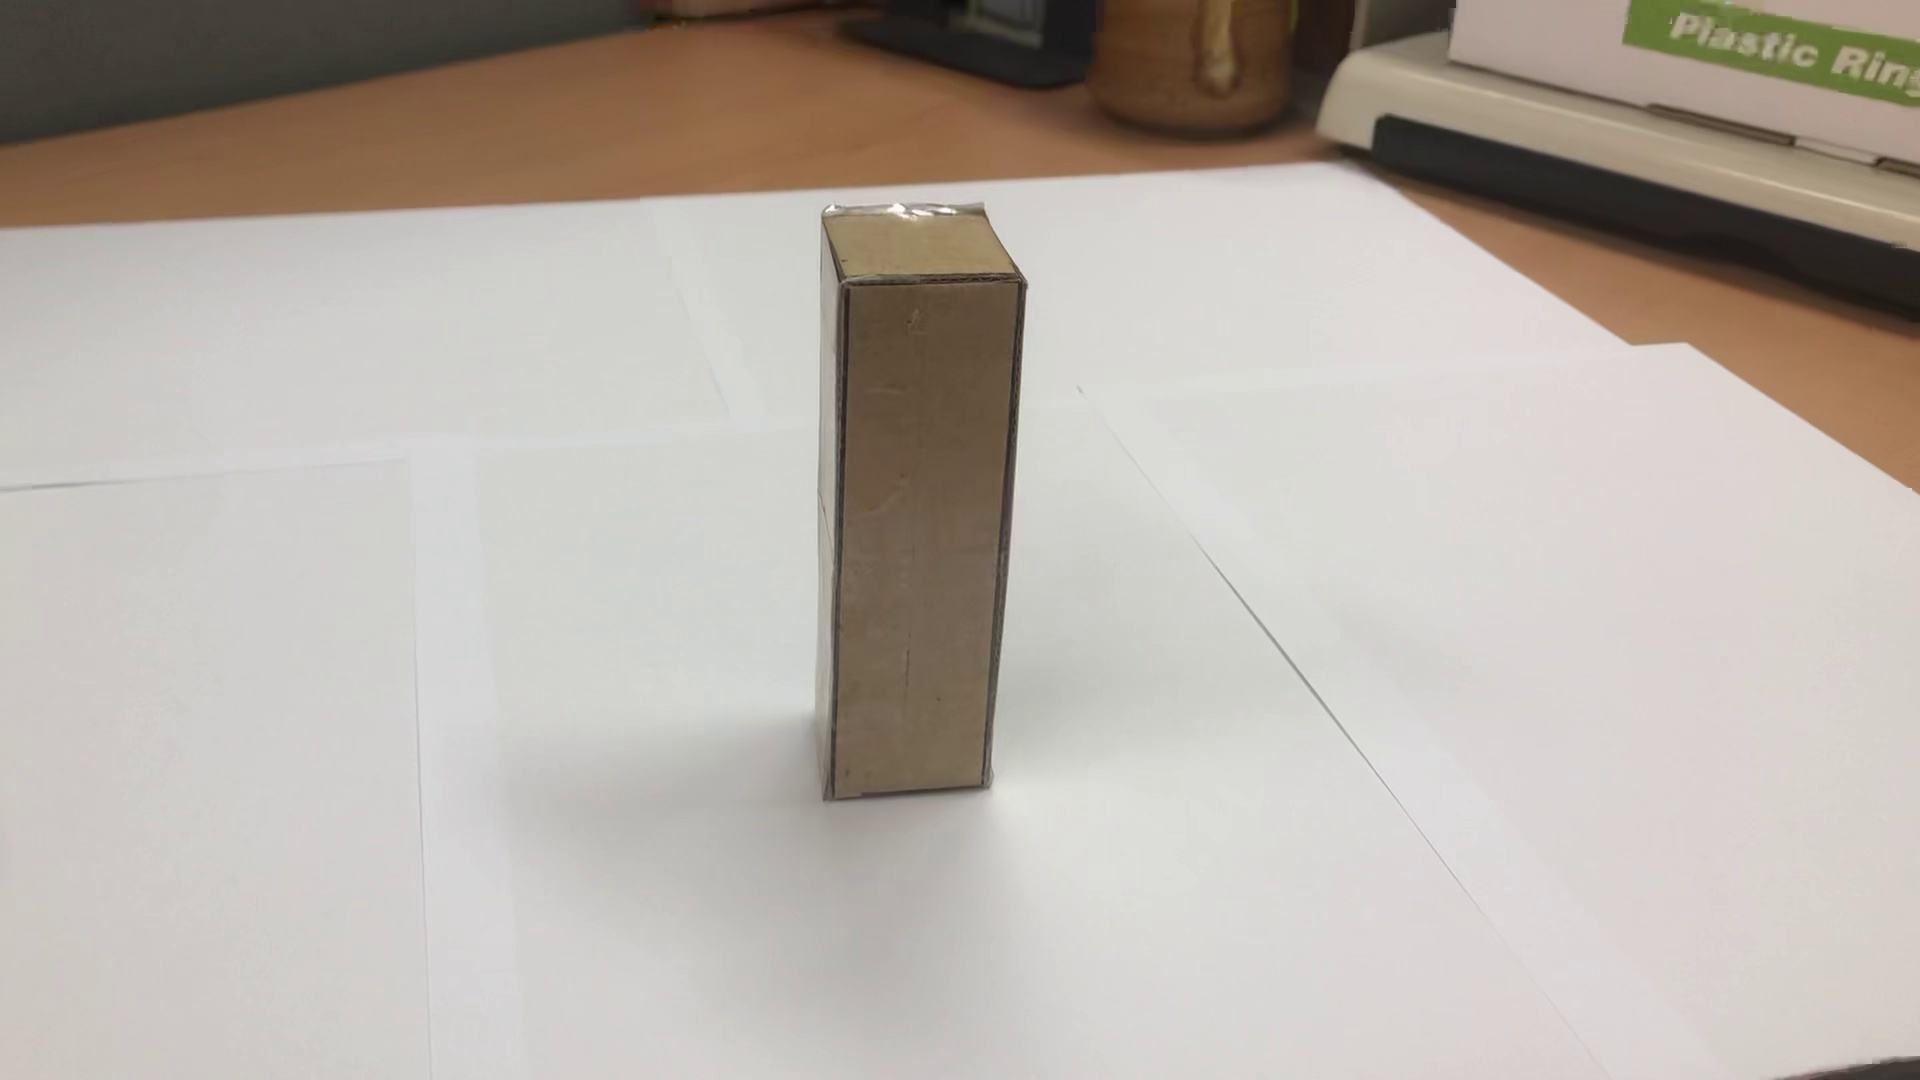box: (808, 193, 1043, 835)
